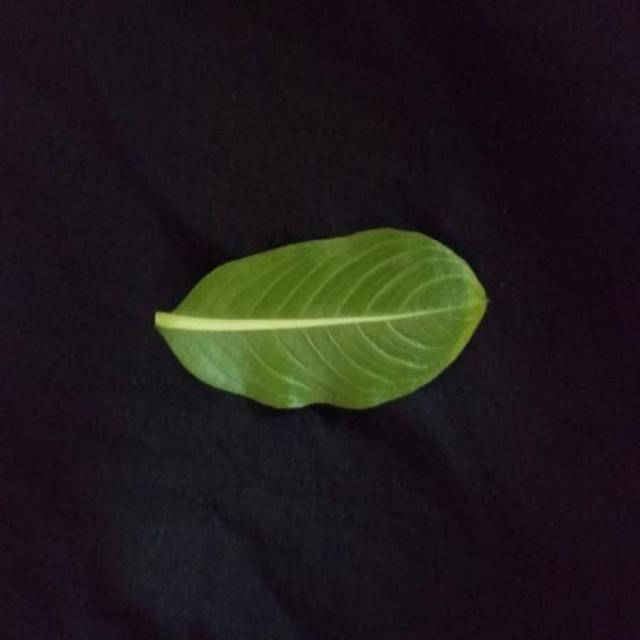catharanthus: (155, 229, 485, 408)
